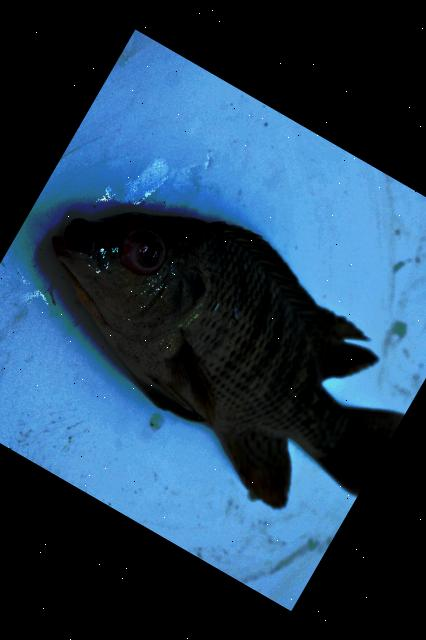Columnaris Disease: (51, 212, 403, 506)
